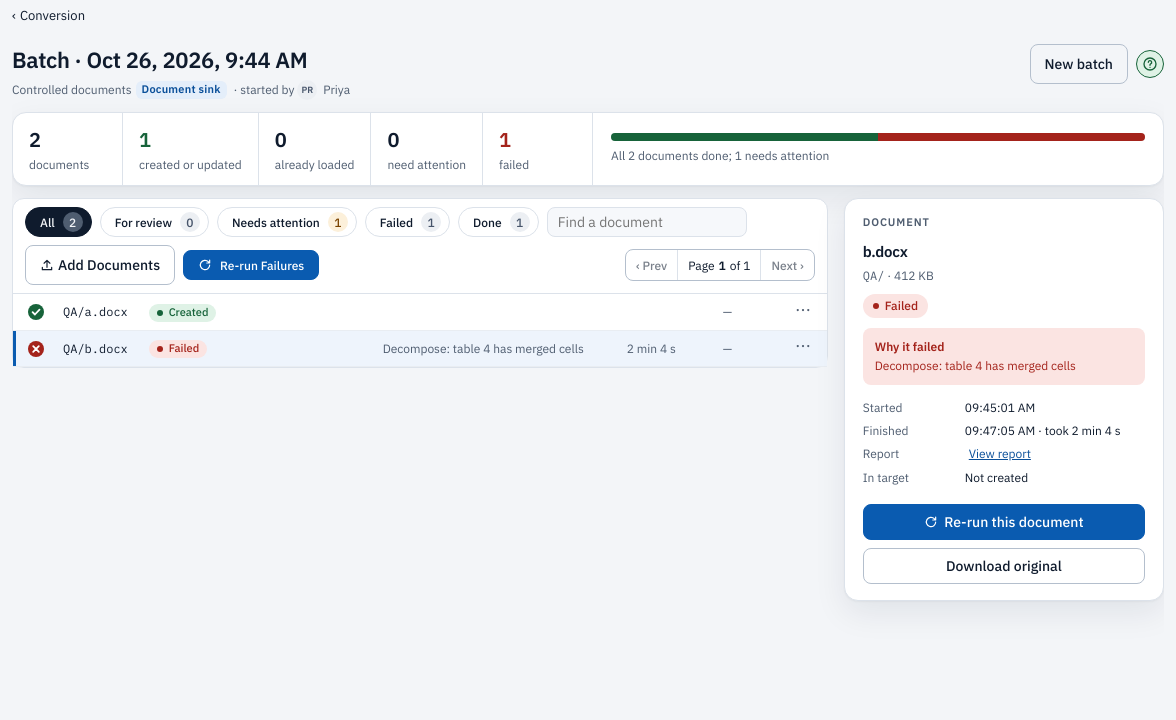
Test: the Conversion tab redesign: a batch › shows the selected document beside the list: why it failed, its times, its original
Expected: the heading "b.docx" is shown, [863, 242, 908, 261]
Expected: the text "QA/ · 412 KB" is shown, [863, 268, 934, 283]
Click the button "QA/a.docx". click: x=95, y=312
box: [63, 303, 128, 321]
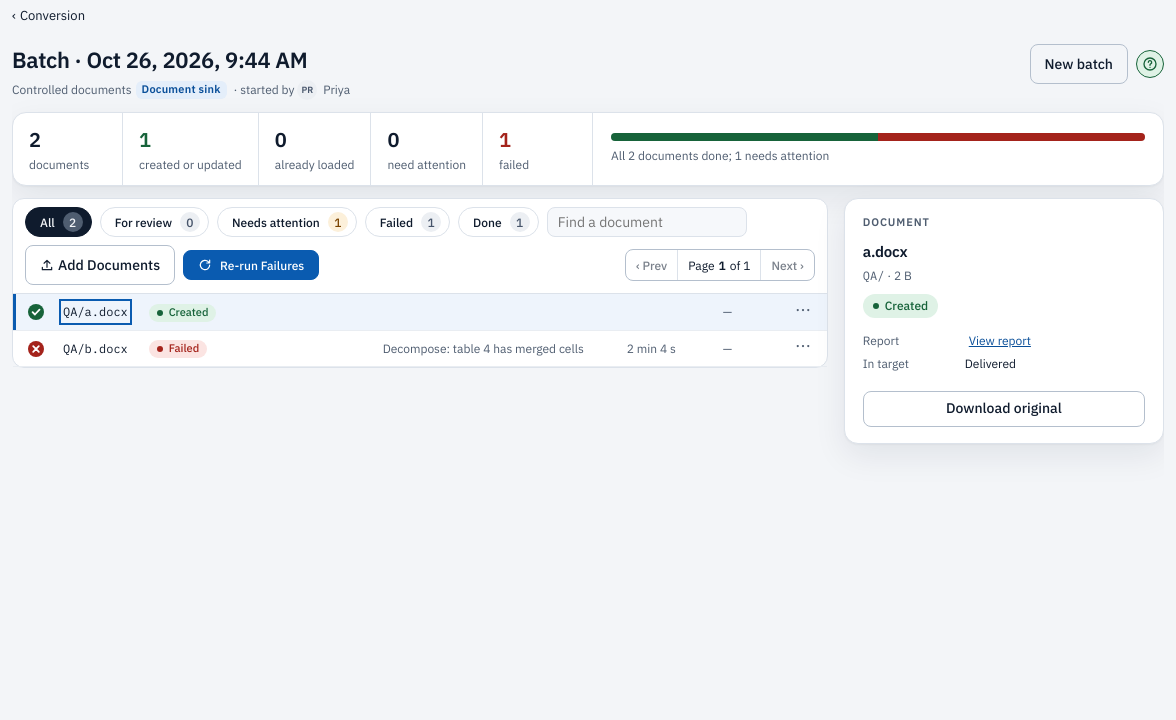
Expected: the heading "a.docx" is shown, [863, 242, 908, 261]
Expected: the text "Why it failed" is gone
